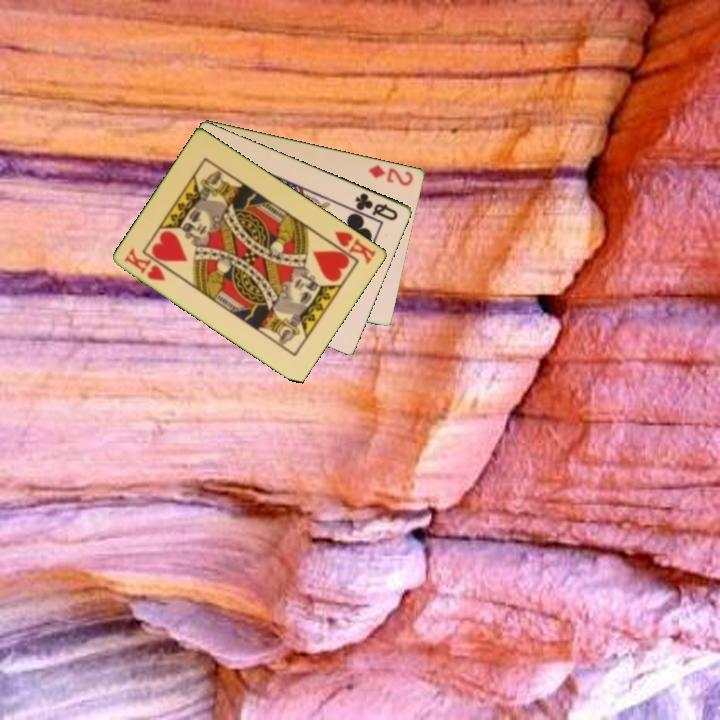2d: (366, 161, 416, 189)
Kh: (324, 227, 380, 268), (121, 244, 169, 284)
Qc: (352, 189, 401, 223)
